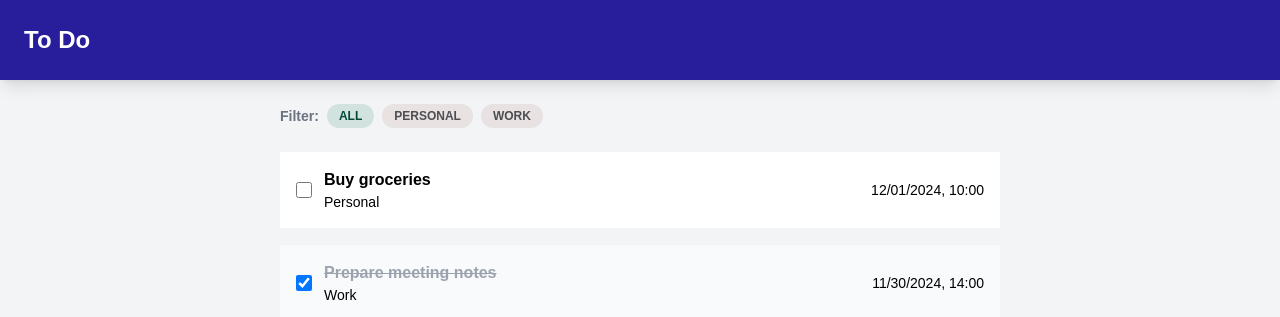
it: Todo Page › filters todos by category
Check: the text "Buy groceries" is shown, box [324,168,431,192]
Check: the text "Prepare meeting notes" is shown, box [324,261,496,285]
What coordinates should you click on to do the following:
click the button "WORK"
I would click on:
 (512, 116)
Its box is [481,104,543,128].
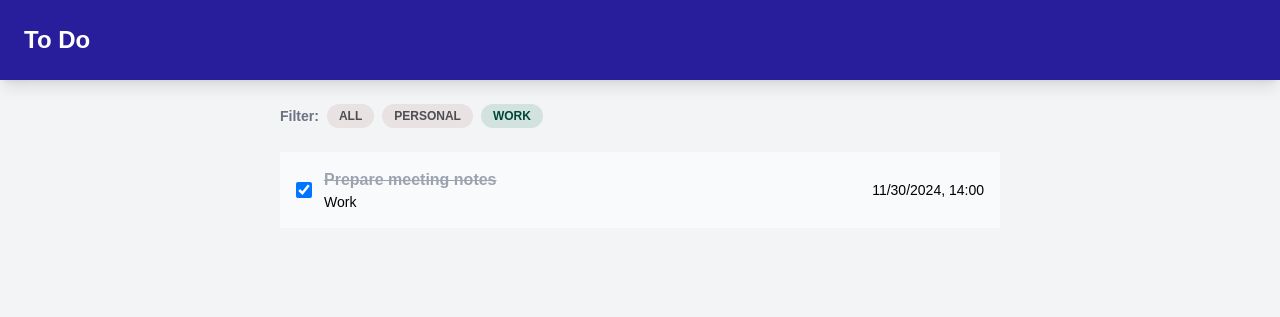
Check: the text "Prepare meeting notes" is shown, box [324,168,496,192]
Check: the text "Buy groceries" is gone
